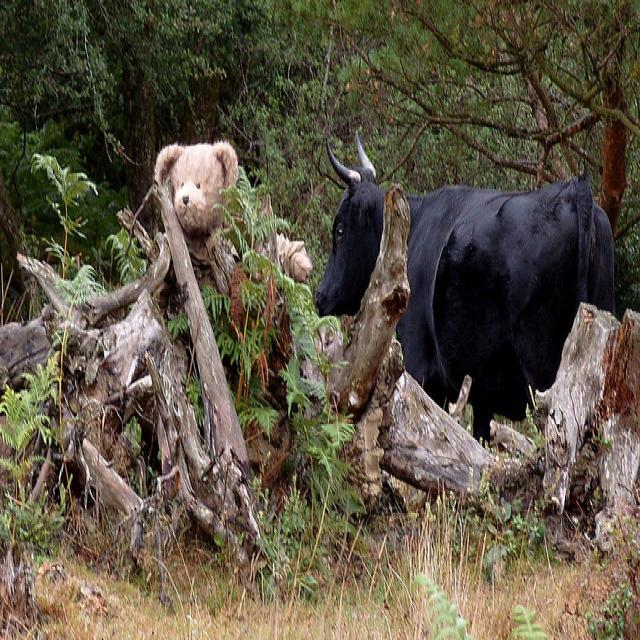cow: (312, 126, 614, 439)
